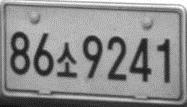1: (156, 37, 171, 84)
2: (106, 35, 127, 81)
4: (128, 36, 153, 83)
6: (32, 31, 54, 76)
8: (8, 30, 31, 75)
9: (81, 34, 103, 79)
소: (55, 41, 78, 79)
